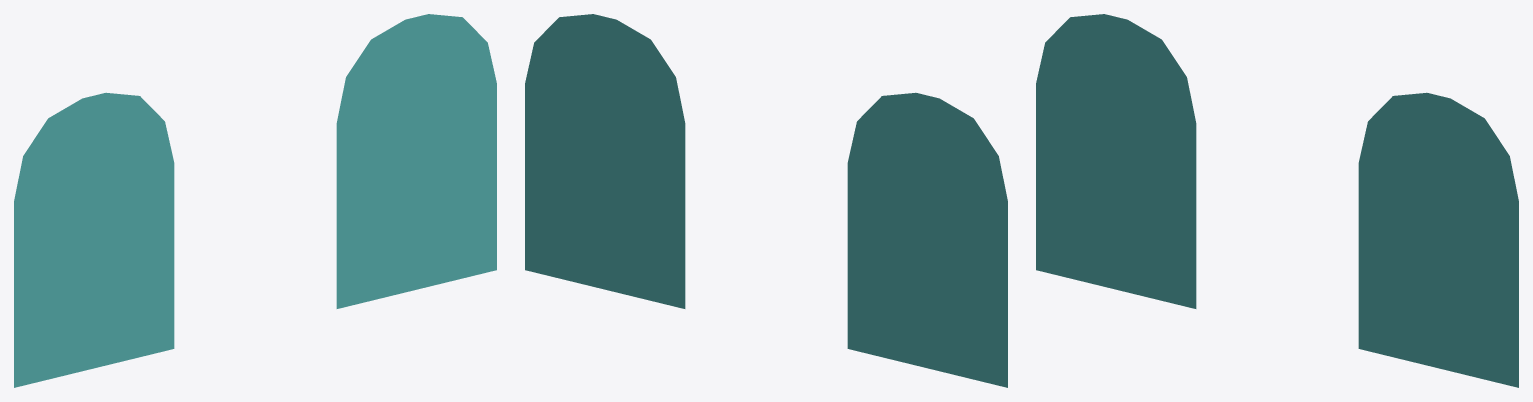
File: Building_2_windows_glass.fbx
3 renders of one model, left to right at view 1: azimuth 30°, elevation 25°; view 2: azimuth 150°, elevation 25°; view 3: azimuth 330°, elevation 25°, orthographic.
Visible parts, largest first — view 1: Windows; view 2: Windows; view 3: Windows.
Boxes of the visible parts, x1,y1,x2,y2 form: Windows: (14, 14, 496, 387); Windows: (525, 14, 1007, 387); Windows: (1036, 14, 1518, 387).
Size of the model in its own units: 1.23e-05 by 75.57 by 40.79.
